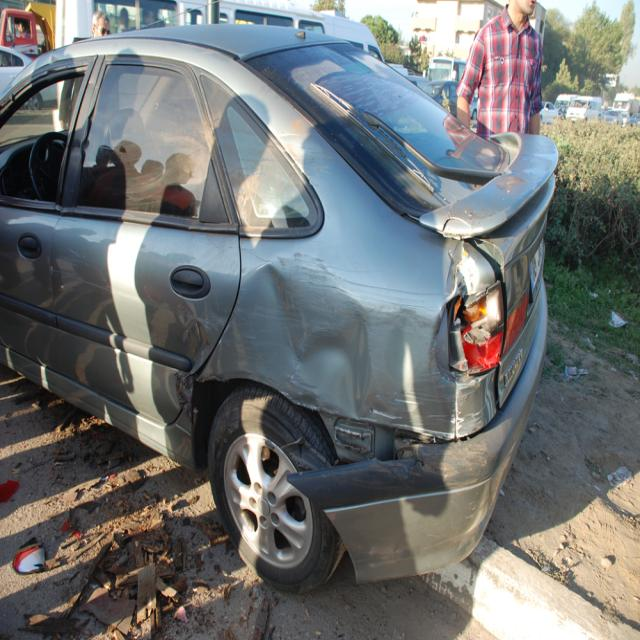Cabossage: (264, 265, 461, 454)
Dechirure: (296, 391, 485, 482)
Phare abime: (446, 287, 506, 381)
Rayure: (202, 264, 486, 436)
